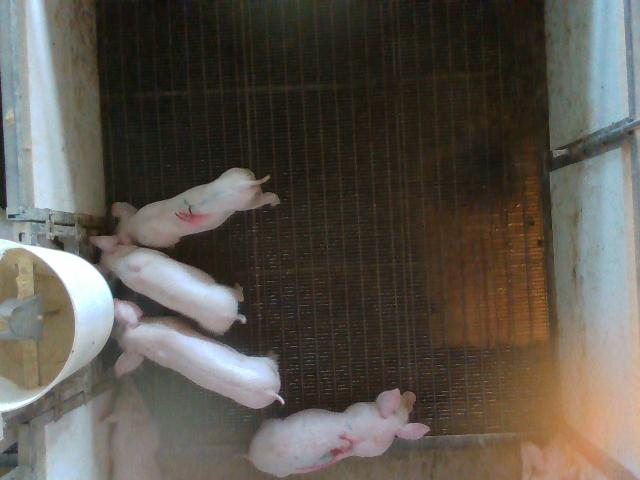pig-3: (248, 389, 429, 477)
pig-4: (112, 168, 280, 247)
